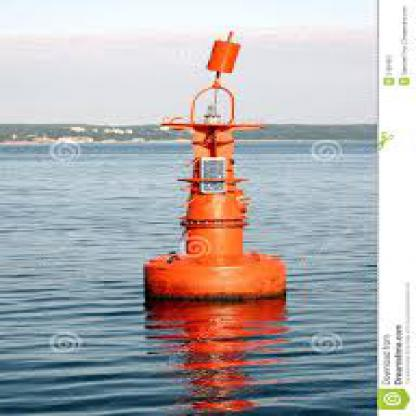buoy: (136, 28, 294, 302)
